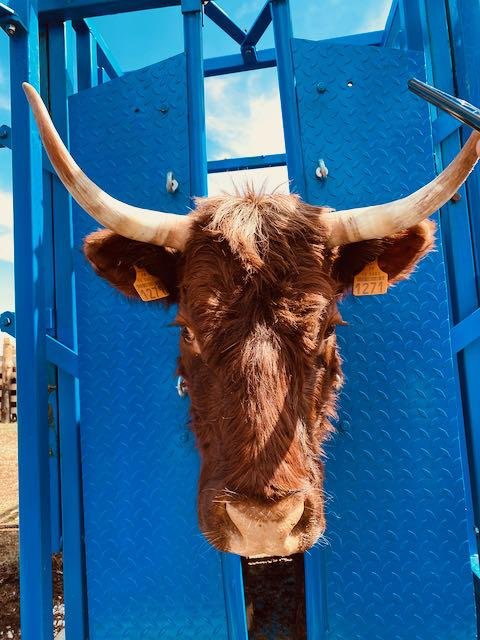muzzles: (188, 489, 338, 564)
